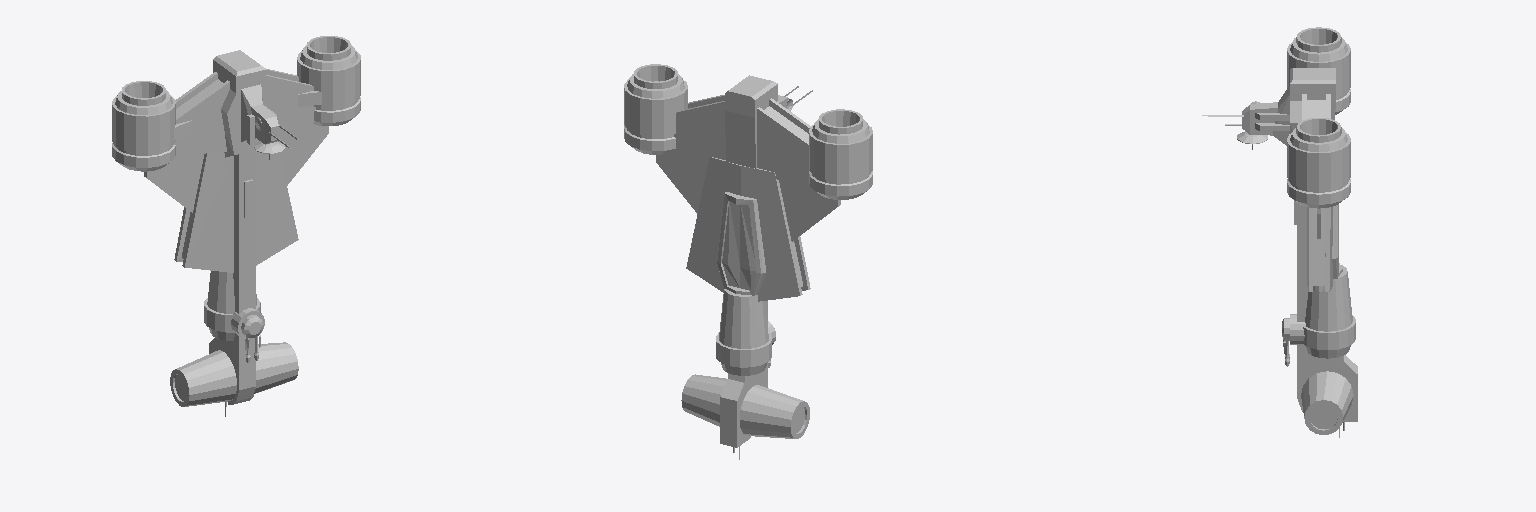
The model's file is Corveta_Sing.obj.
3 renders of one model, left to right at view 1: azimuth 30°, elevation 25°; view 2: azimuth 150°, elevation 25°; view 3: azimuth 270°, elevation 25°, orthographic.
Parts seen in each view (by area): view 1: hull; view 2: hull; view 3: hull.
Boxes of the visible parts, box(x1,y1,x2,y2) form: hull: box(112, 36, 360, 416); hull: box(624, 64, 872, 459); hull: box(1202, 27, 1357, 437).
Size of the model in its own units: 115 by 166 by 64.4.